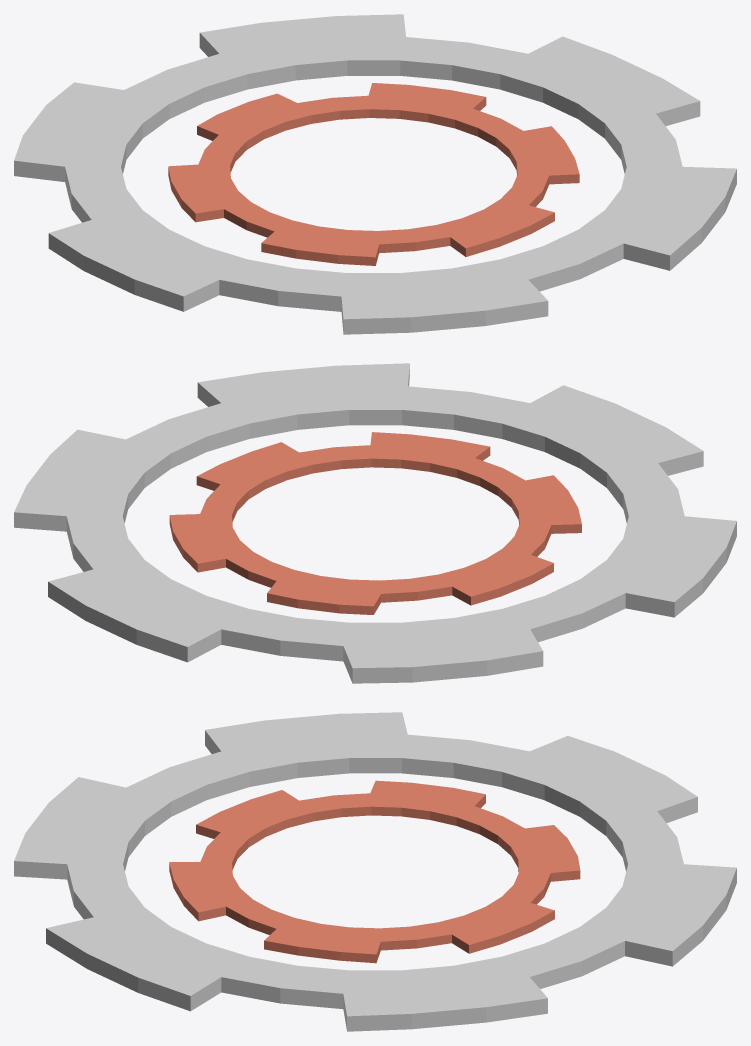
File: Cogwheel.fbx
3 renders of one model, top to bottom at view 1: azimuth 30°, elevation 25°; view 2: azimuth 150°, elevation 25°; view 3: azimuth 270°, elevation 25°, orthographic.
Parts seen in each view (by area): view 1: Cylinder.015, Cylinder.016; view 2: Cylinder.015, Cylinder.016; view 3: Cylinder.015, Cylinder.016.
Boxes of the visible parts, box(x1,y1,x2,y2) form: Cylinder.015: box(14, 14, 736, 334); Cylinder.016: box(168, 83, 579, 265); Cylinder.015: box(14, 363, 736, 683); Cylinder.016: box(169, 432, 581, 614); Cylinder.015: box(14, 712, 736, 1031); Cylinder.016: box(169, 780, 580, 963).
Bounding box in the file's own units: 254 × 6 × 256.
